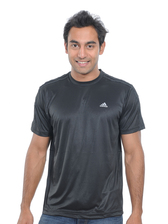clothoes: (28, 68, 149, 216)
